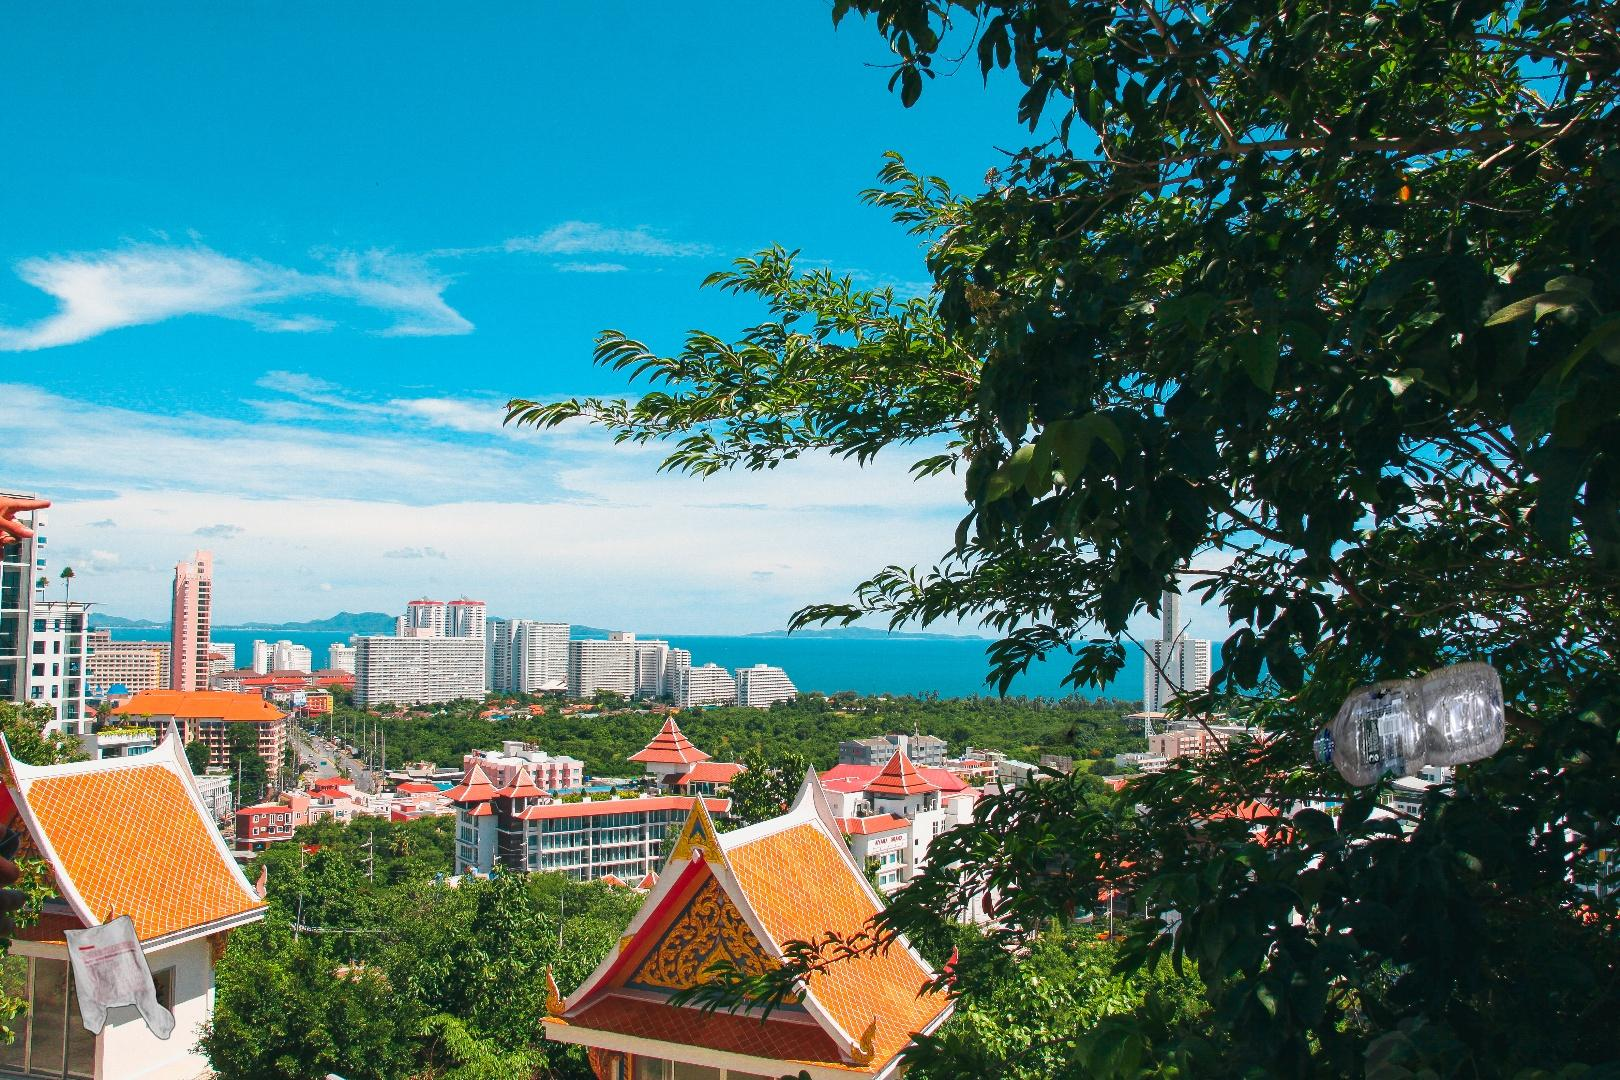penholder: (882, 689, 1240, 1080)
plastic-bag: (61, 912, 178, 1043)
plastic-bottles: (1309, 656, 1510, 791)
shoes: (1530, 1066, 1620, 1080)
